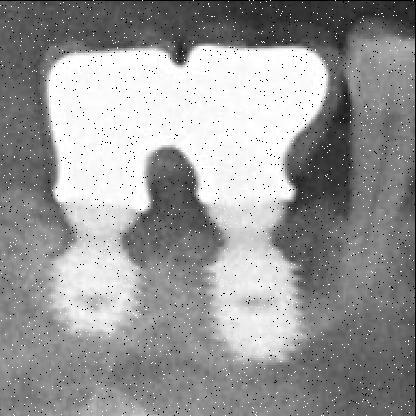Bicon: (202, 234, 307, 368), (46, 237, 140, 341)
